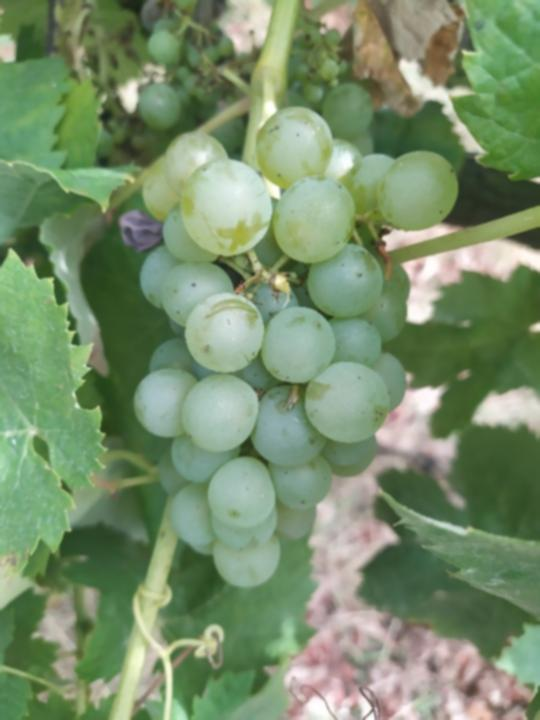grape: (129, 103, 462, 591)
